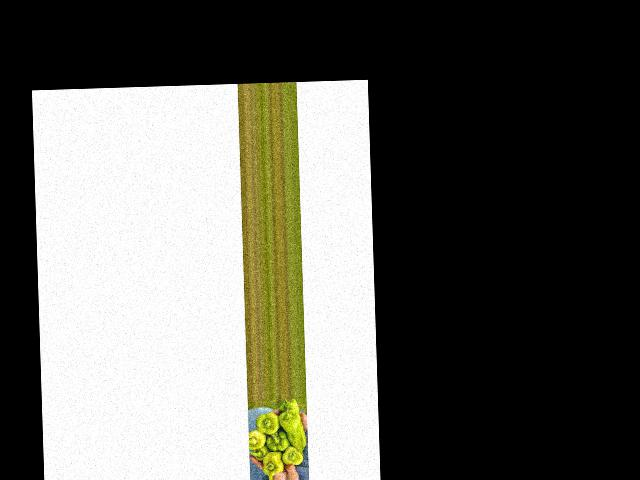bell_pepper: (260, 450, 282, 475)
